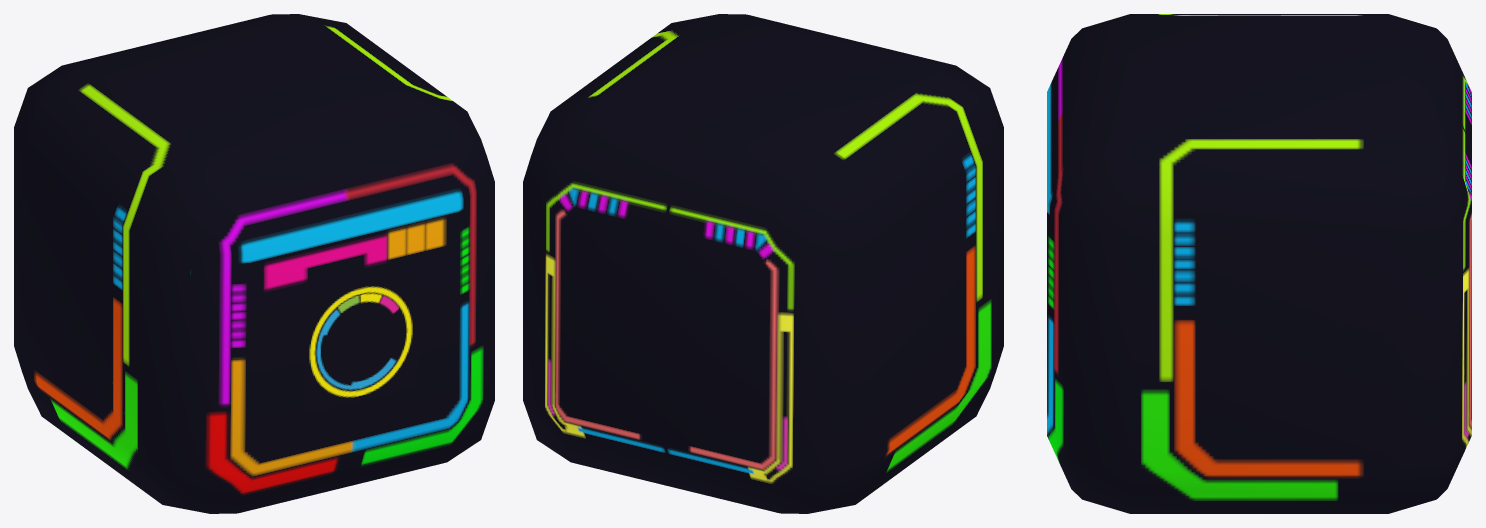
File: spk_cube.glb
3 renders of one model, left to right at view 1: azimuth 30°, elevation 25°; view 2: azimuth 150°, elevation 25°; view 3: azimuth 270°, elevation 25°, orthographic. The views are drawn at different scales.
Parts seen in each view (by area): view 1: spk_cube; view 2: spk_cube; view 3: spk_cube.
Part boxes in pixels (<box>): spk_cube: <box>14,14,494,513</box>; spk_cube: <box>523,14,1003,513</box>; spk_cube: <box>1047,14,1471,513</box>.
Size of what is drawn, in the model's own units: 2 by 2 by 2.07.
1 material, 1 textured.
